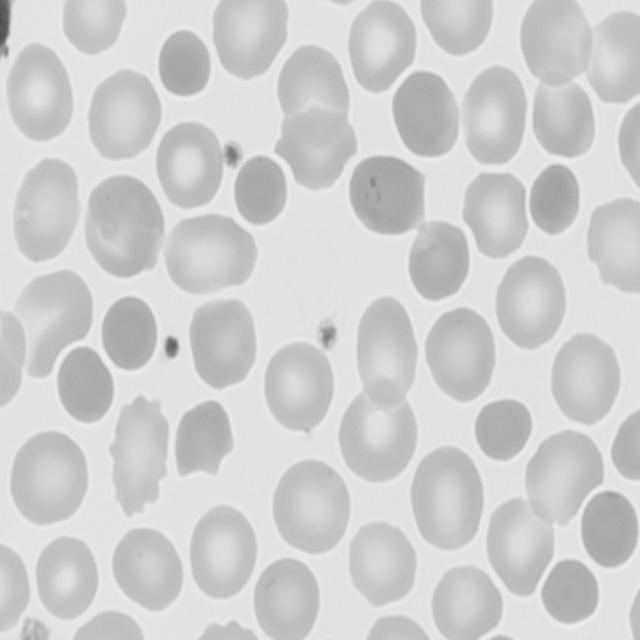RBC: (84, 169, 171, 280), (410, 438, 490, 556), (337, 381, 420, 488), (8, 428, 92, 528), (349, 294, 421, 410), (9, 155, 84, 266), (522, 428, 603, 529), (269, 457, 352, 555), (166, 212, 260, 296), (460, 60, 534, 166), (84, 64, 164, 162), (422, 305, 498, 408), (491, 250, 566, 354), (187, 502, 263, 604), (186, 295, 262, 395), (262, 338, 340, 435), (3, 39, 76, 142), (548, 330, 623, 430), (275, 40, 352, 136), (487, 494, 560, 594), (108, 525, 187, 614), (345, 515, 418, 611), (154, 114, 226, 210), (463, 164, 535, 260), (388, 68, 462, 160), (348, 0, 421, 92), (518, 0, 593, 89), (279, 110, 360, 192), (210, 0, 292, 80), (32, 533, 103, 625), (250, 553, 322, 640), (347, 156, 422, 238), (406, 216, 474, 304), (430, 563, 506, 640), (586, 197, 638, 297), (585, 8, 640, 102), (175, 396, 238, 478), (419, 0, 499, 57), (59, 0, 130, 57), (0, 538, 35, 638), (67, 607, 151, 640), (611, 100, 640, 195), (610, 398, 640, 488), (361, 611, 439, 640)
Spherocyte: (99, 292, 162, 376), (576, 488, 638, 573), (56, 343, 116, 426), (540, 558, 606, 628), (527, 162, 583, 242), (234, 153, 291, 227), (474, 396, 534, 464), (160, 28, 212, 100)
